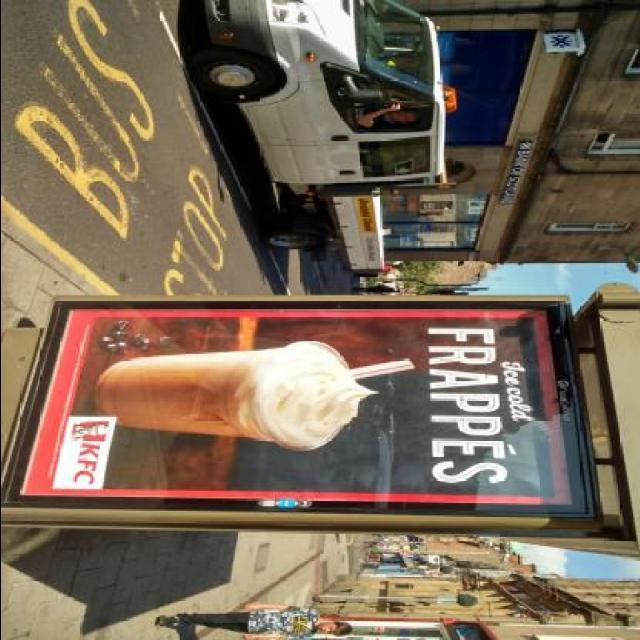Ice cream: (258, 339, 378, 447)
